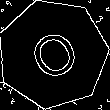O_SE: (21, 21, 85, 87)
